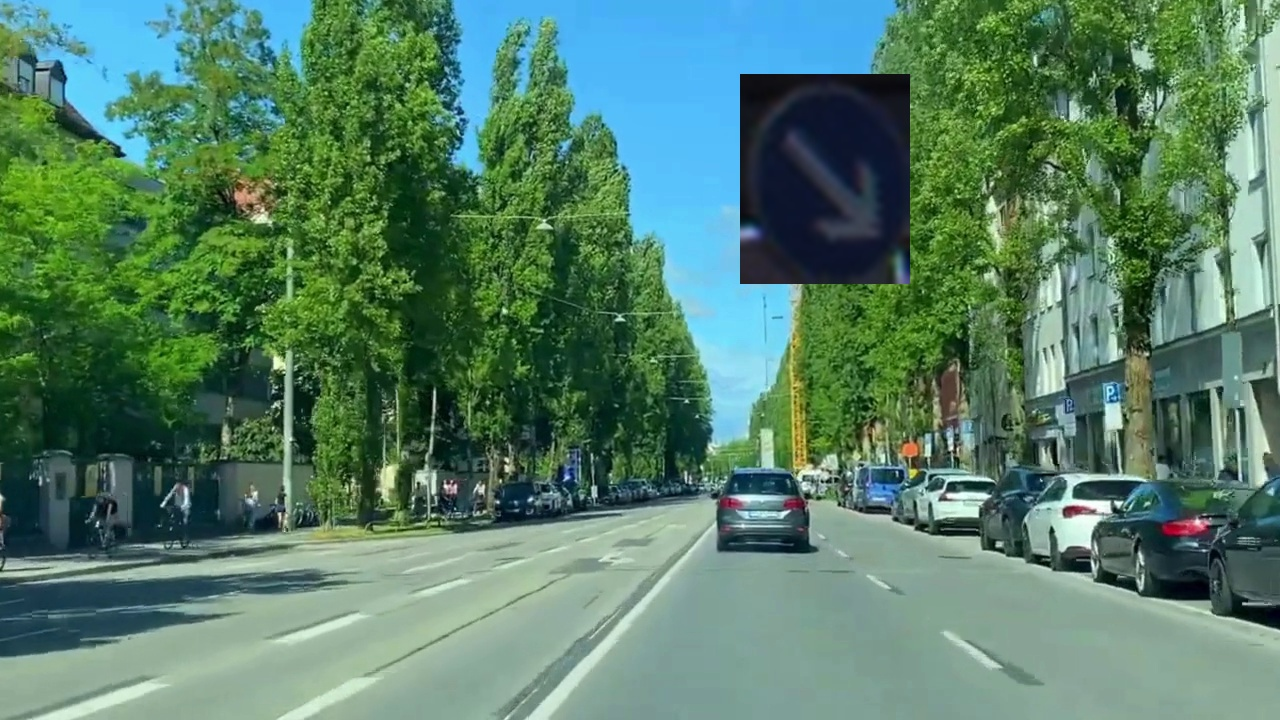Keep right: (740, 74, 910, 284)
